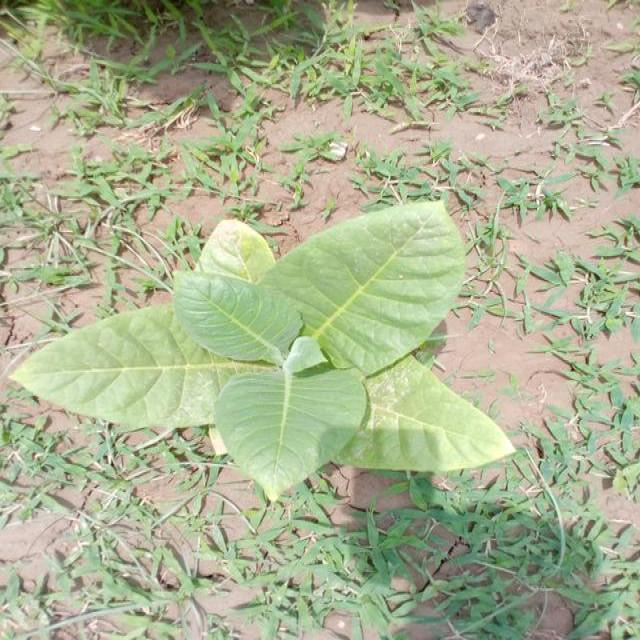crop: (13, 200, 518, 500)
